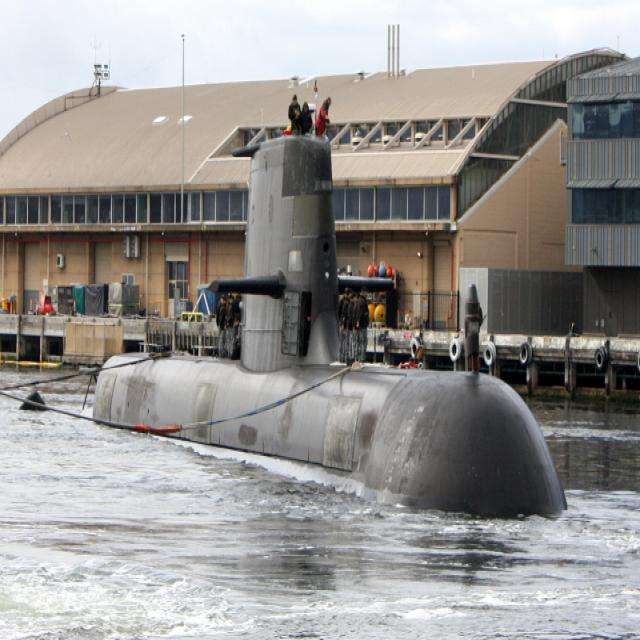submarine: (92, 119, 571, 510)
